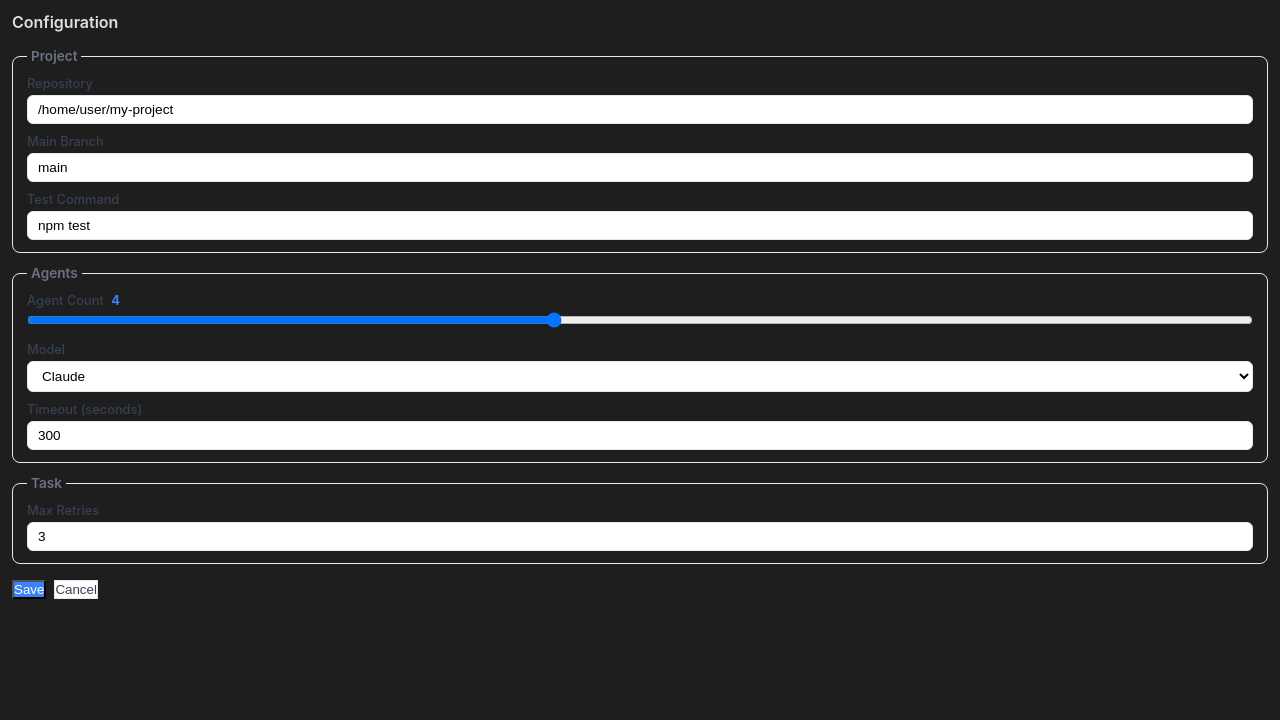
Test: ConfigPanel › should display agent count from range slider
Expected: the text "4" is shown, [111,293,120,308]
Set the slider labelled "Agent Count 4" to "6" at (899, 320), box [27,312,1253,328]
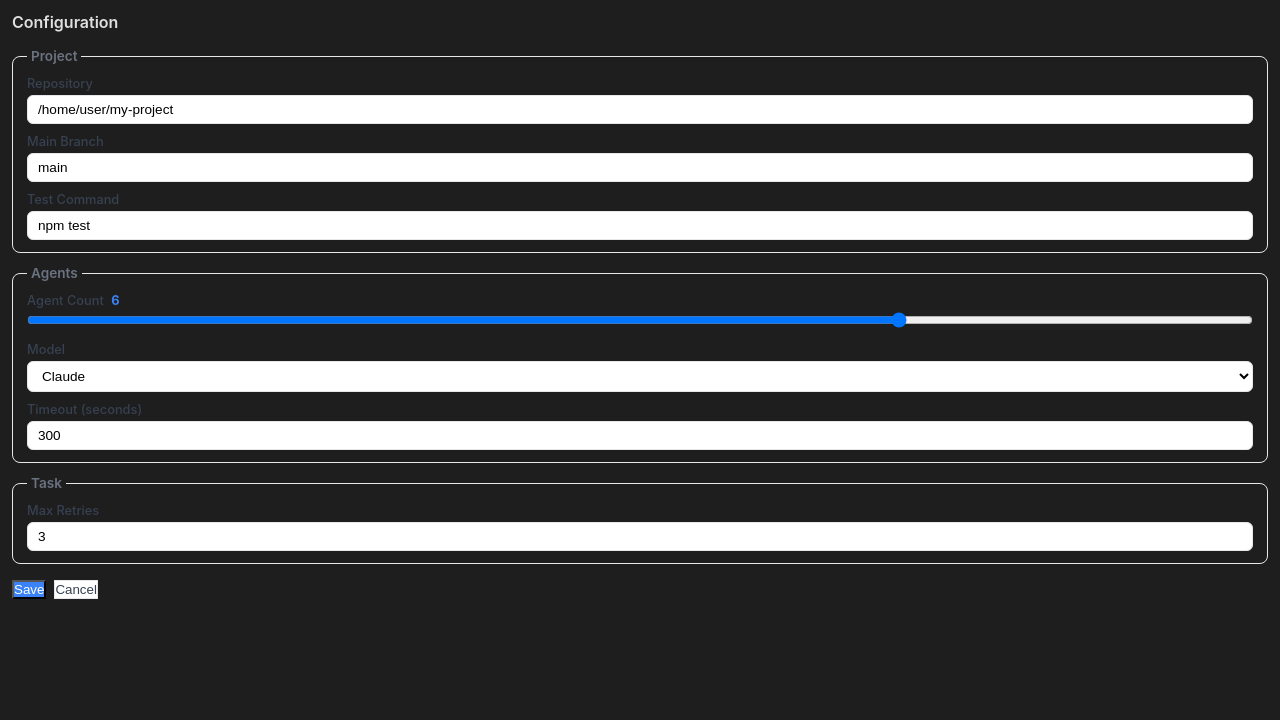
Expected: the text "6" is shown, [111,293,120,308]
